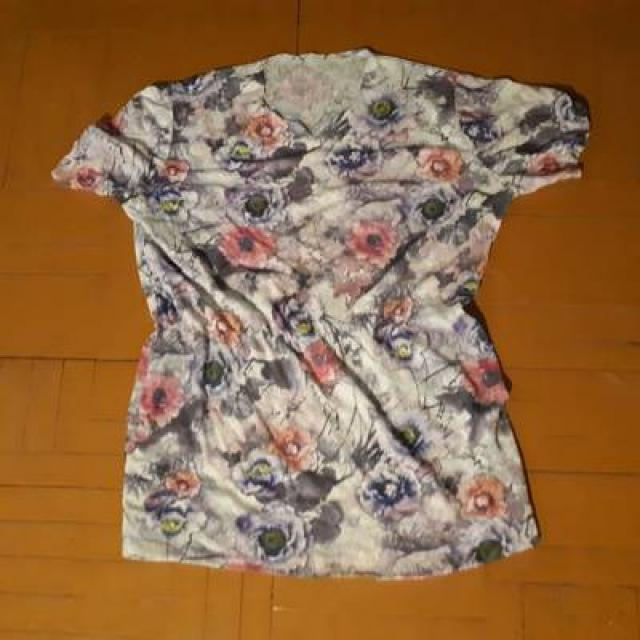Clothes -Biodegradable-: (51, 45, 590, 581)
